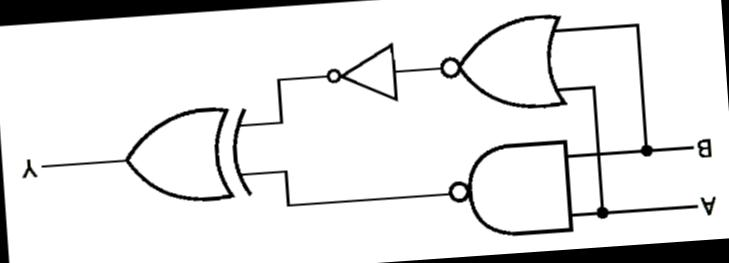nand: (421, 128, 596, 250)
nor: (425, 1, 587, 127)
not: (302, 30, 419, 118)
xor: (97, 89, 271, 224)
